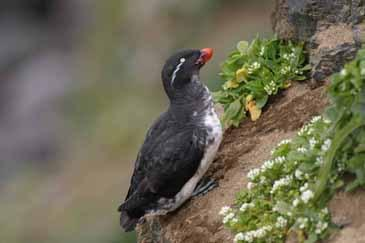007.Parakeet_Auklet: (118, 46, 225, 234)
